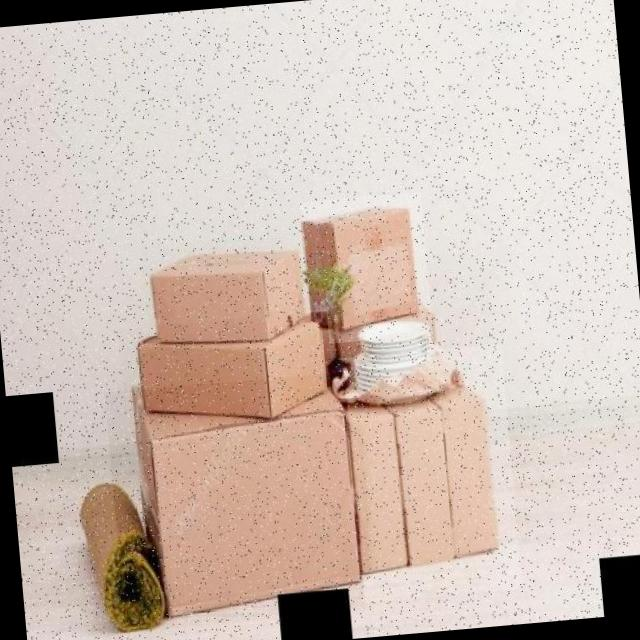box: (104, 372, 365, 632), (337, 343, 522, 602), (117, 310, 336, 446), (300, 192, 432, 345), (140, 234, 306, 354)
